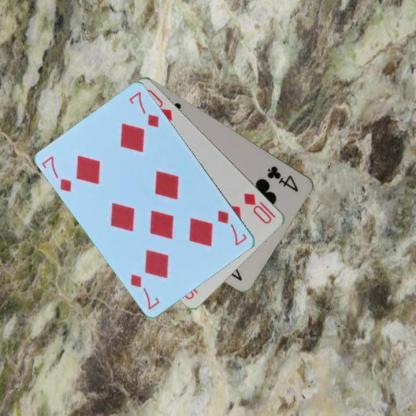10d: (242, 190, 277, 225)
4c: (264, 162, 300, 193)
7d: (40, 153, 74, 194), (214, 208, 248, 248)
